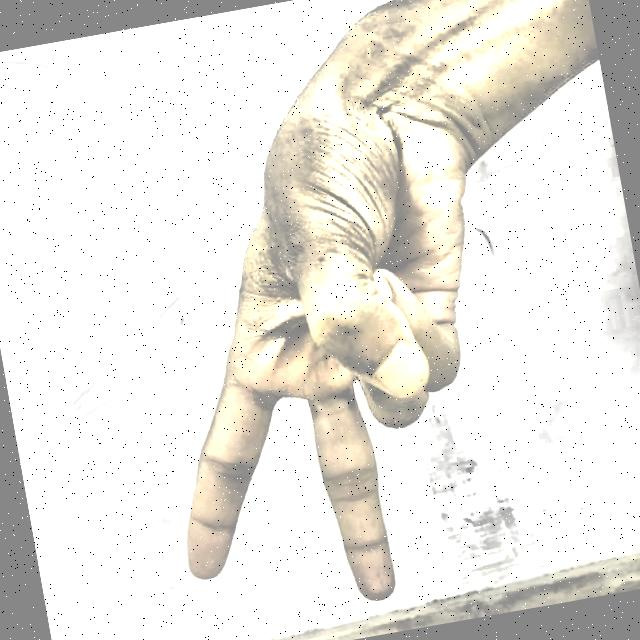Pa: (62, 34, 563, 640)
